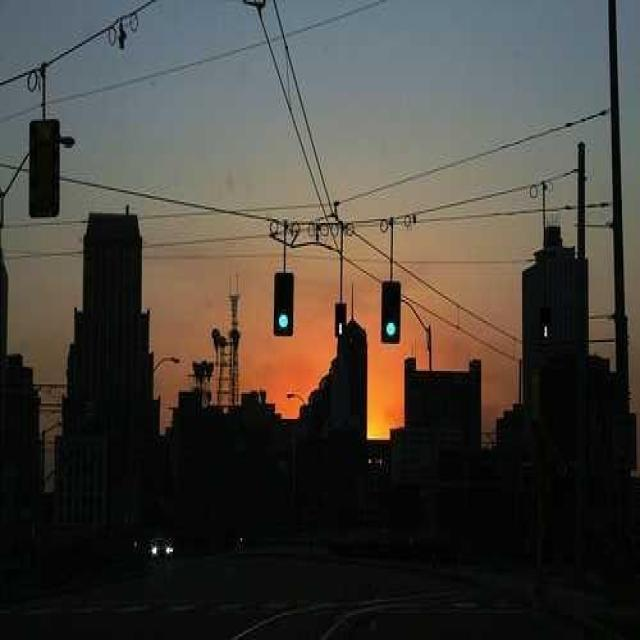Traffic Light -Green-: (270, 269, 297, 340), (378, 277, 403, 350)
